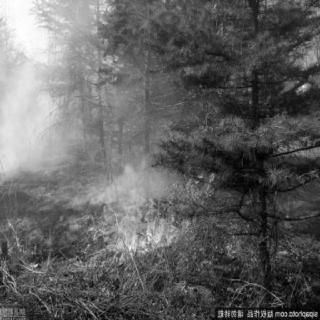Fire: (89, 170, 215, 266)
Smoke: (3, 78, 44, 164)
